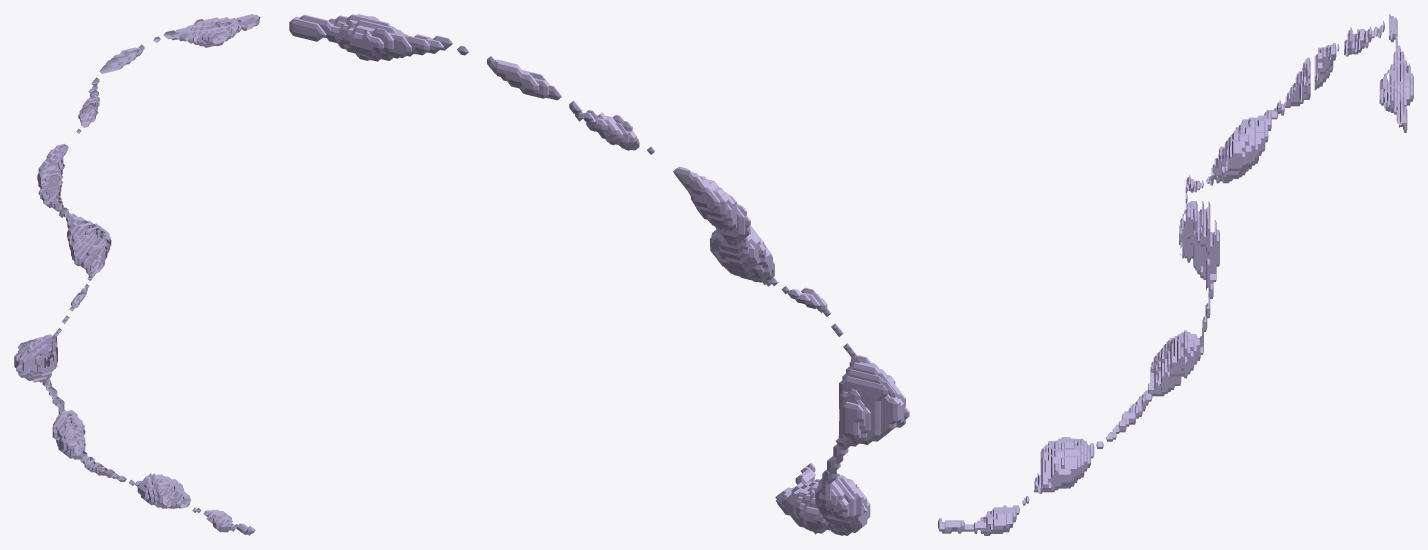
File: SVV_AIML.gltf
3 renders of one model, left to right at view 1: azimuth 30°, elevation 25°; view 2: azimuth 150°, elevation 25°; view 3: azimuth 270°, elevation 25°, orthographic. The views are drawn at different scales.
Parts seen in each view (by area): view 1: AIML; view 2: AIML; view 3: AIML.
Boxes of the visible parts, left/top/right/bottom form: AIML: left=14, top=14, right=260, bottom=535; AIML: left=289, top=14, right=909, bottom=535; AIML: left=938, top=14, right=1413, bottom=535.
Bounding box in the file's own units: 63501 × 72740 × 56607.
